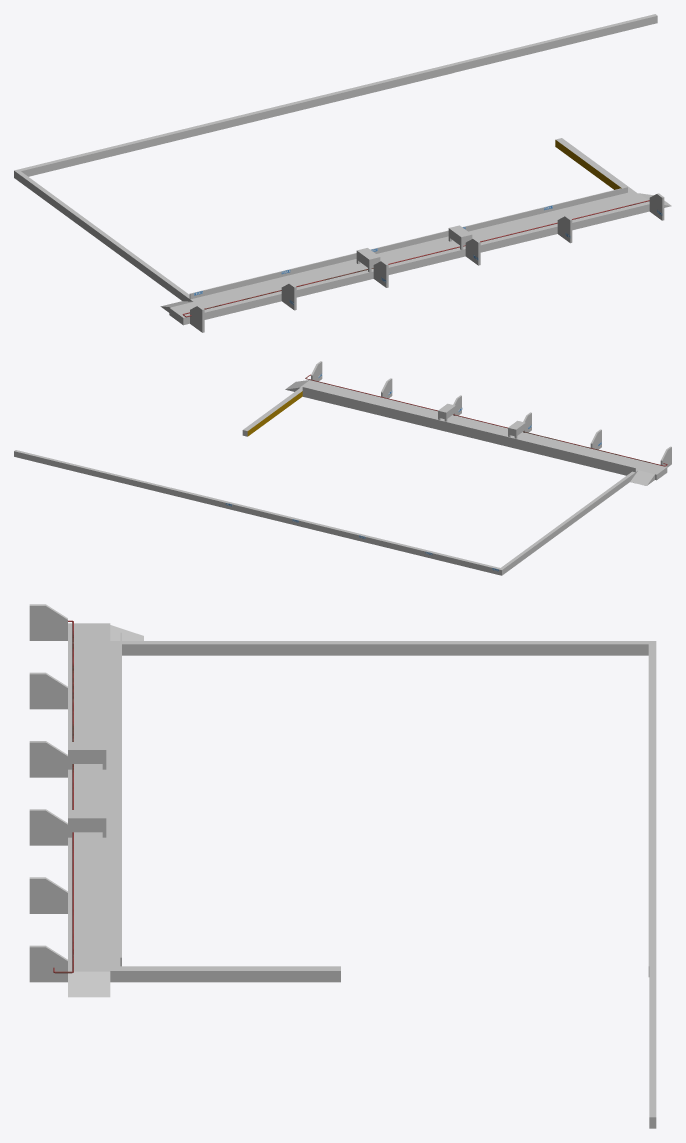
File: ctg_patio_floor2.fbx
The picture shows the model from 3 angles, top to bottom: view 1: azimuth 30°, elevation 25°; view 2: azimuth 150°, elevation 25°; view 3: azimuth 270°, elevation 25°; orthographic projection. The views are drawn at different scales.
Parts seen in each view (by area): view 1: Object.011; view 2: Object.011; view 3: Object.011.
Boxes of the visible parts, x1,y1,x2,y2 form: Object.011: [14, 14, 671, 332]; Object.011: [14, 361, 671, 575]; Object.011: [29, 604, 656, 1128].
Size of the model in its own units: 15200 by 501 by 8150.
